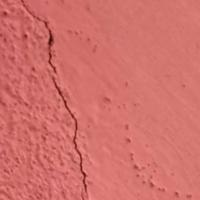crack: (22, 1, 109, 199)
